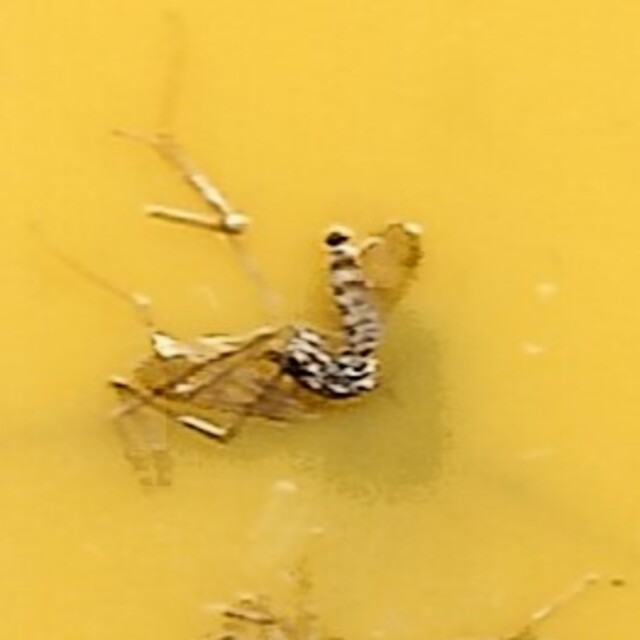Nematocera: (244, 211, 396, 429)
